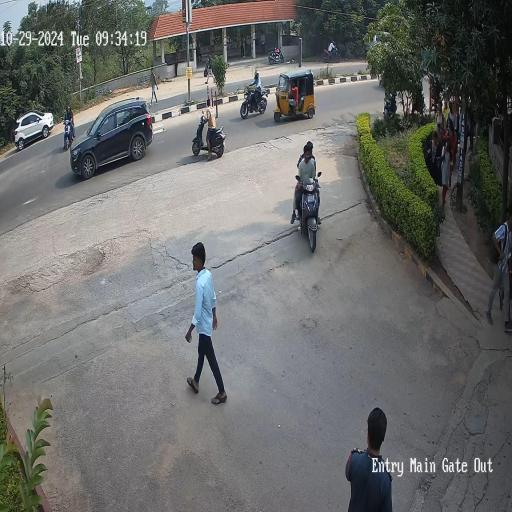no helmet: (292, 137, 324, 178)
